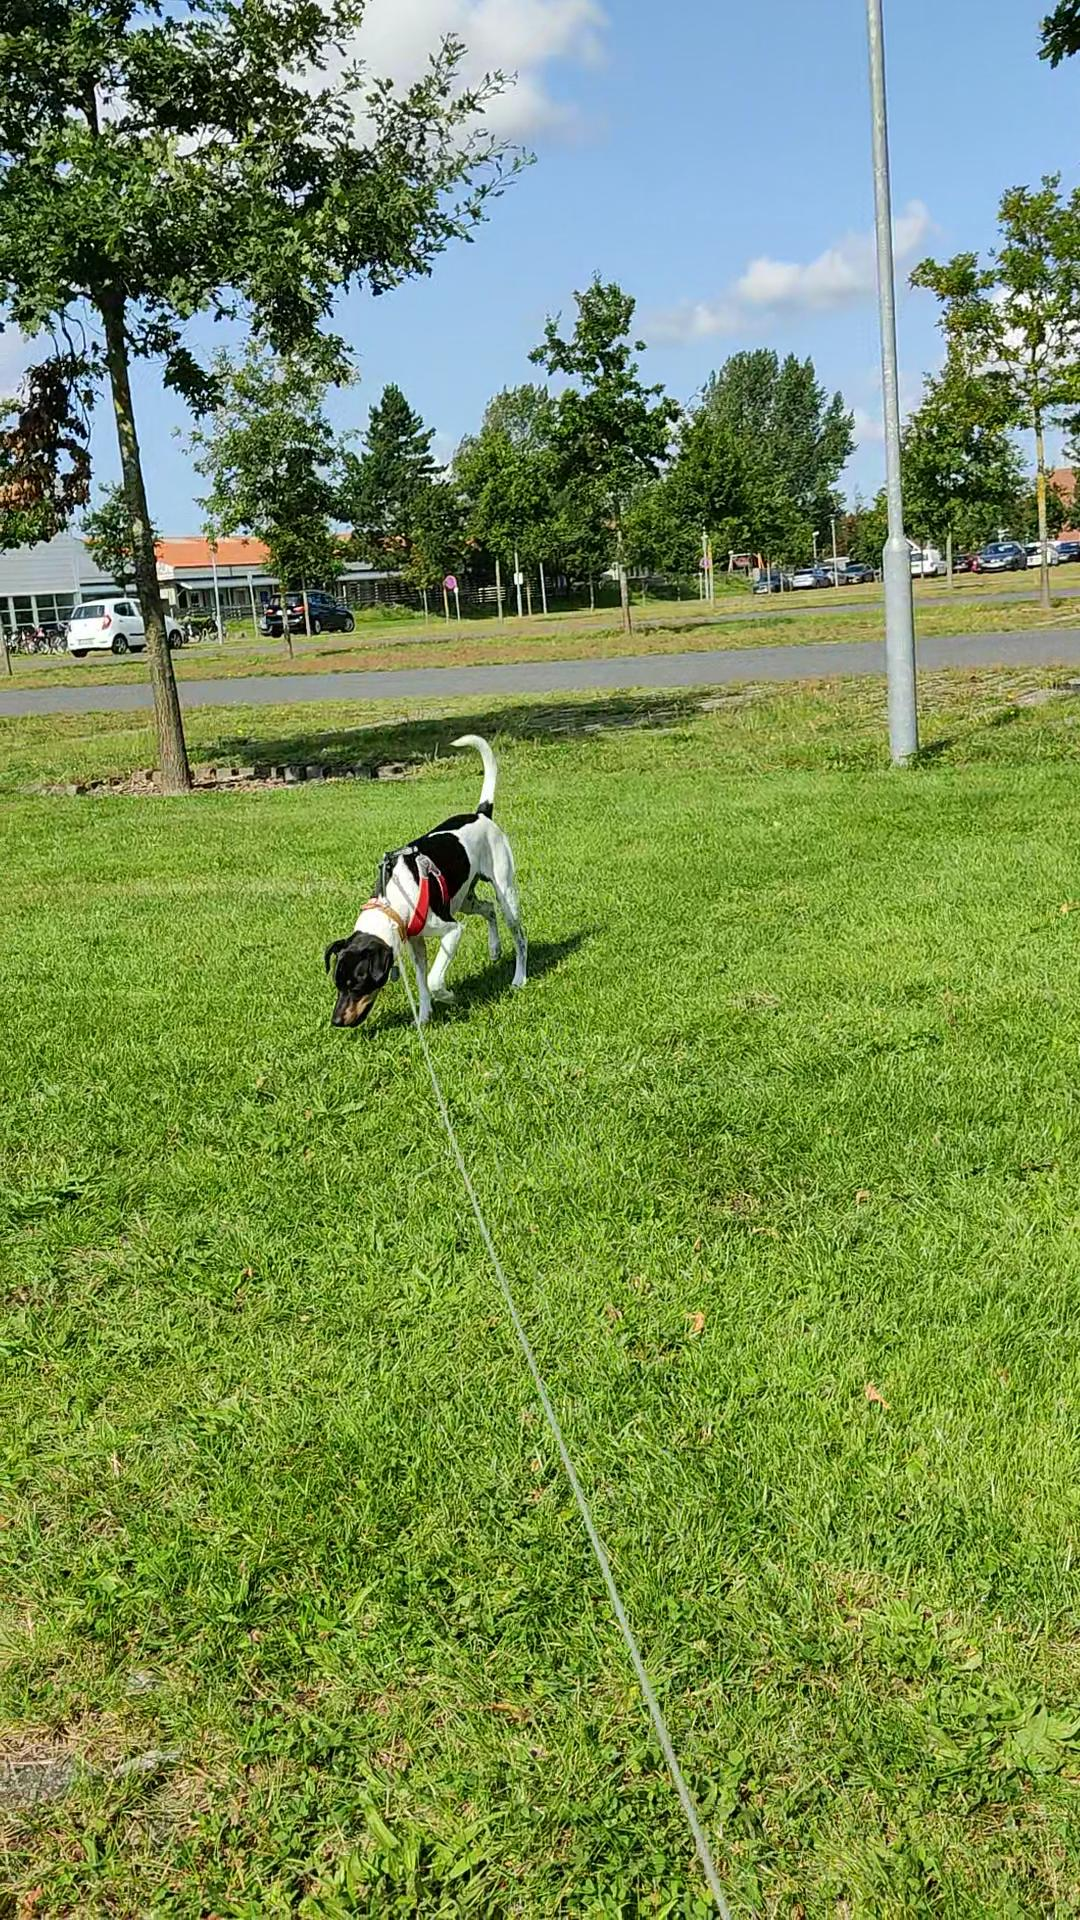Dog: (309, 713, 558, 1050)
